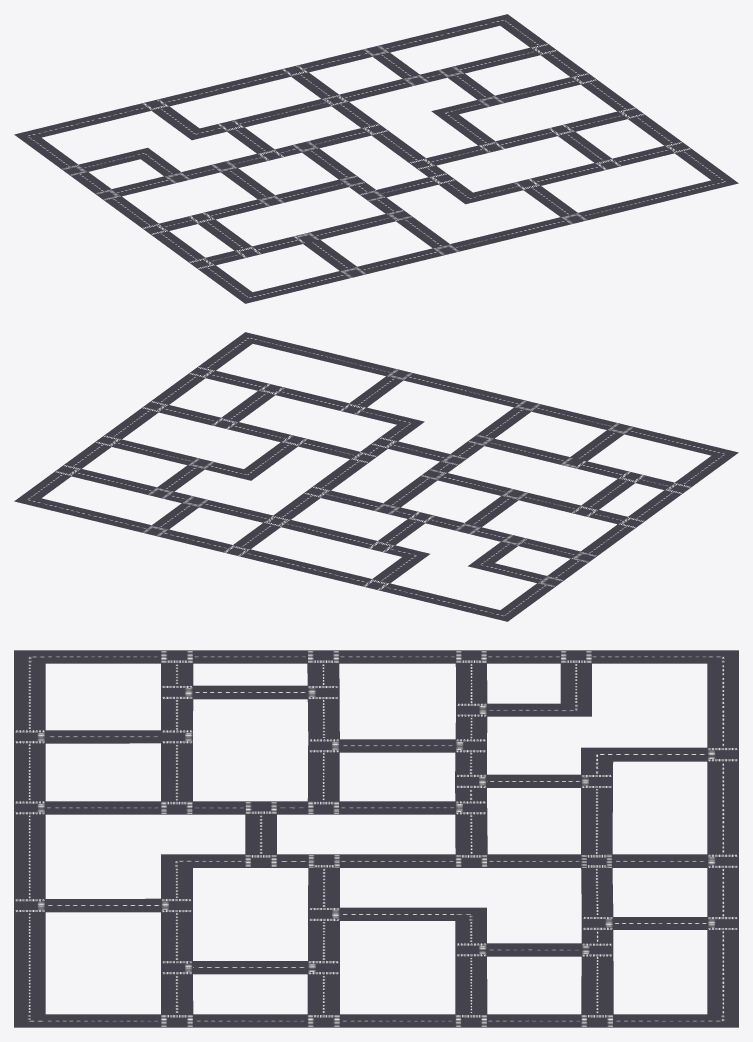
File: road.fbx
3 renders of one model, top to bottom at view 1: azimuth 30°, elevation 25°; view 2: azimuth 150°, elevation 25°; view 3: azimuth 270°, elevation 25°, orthographic. The views are drawn at different scales.
Parts seen in each view (by area): view 1: d; view 2: d; view 3: d.
Part boxes in pixels (left/top/right/bottom): d: left=14, top=14, right=738, bottom=303; d: left=14, top=332, right=738, bottom=621; d: left=14, top=650, right=738, bottom=1027.
Bounding box in the file's own units: 42507 × 0.000488 × 34500.
